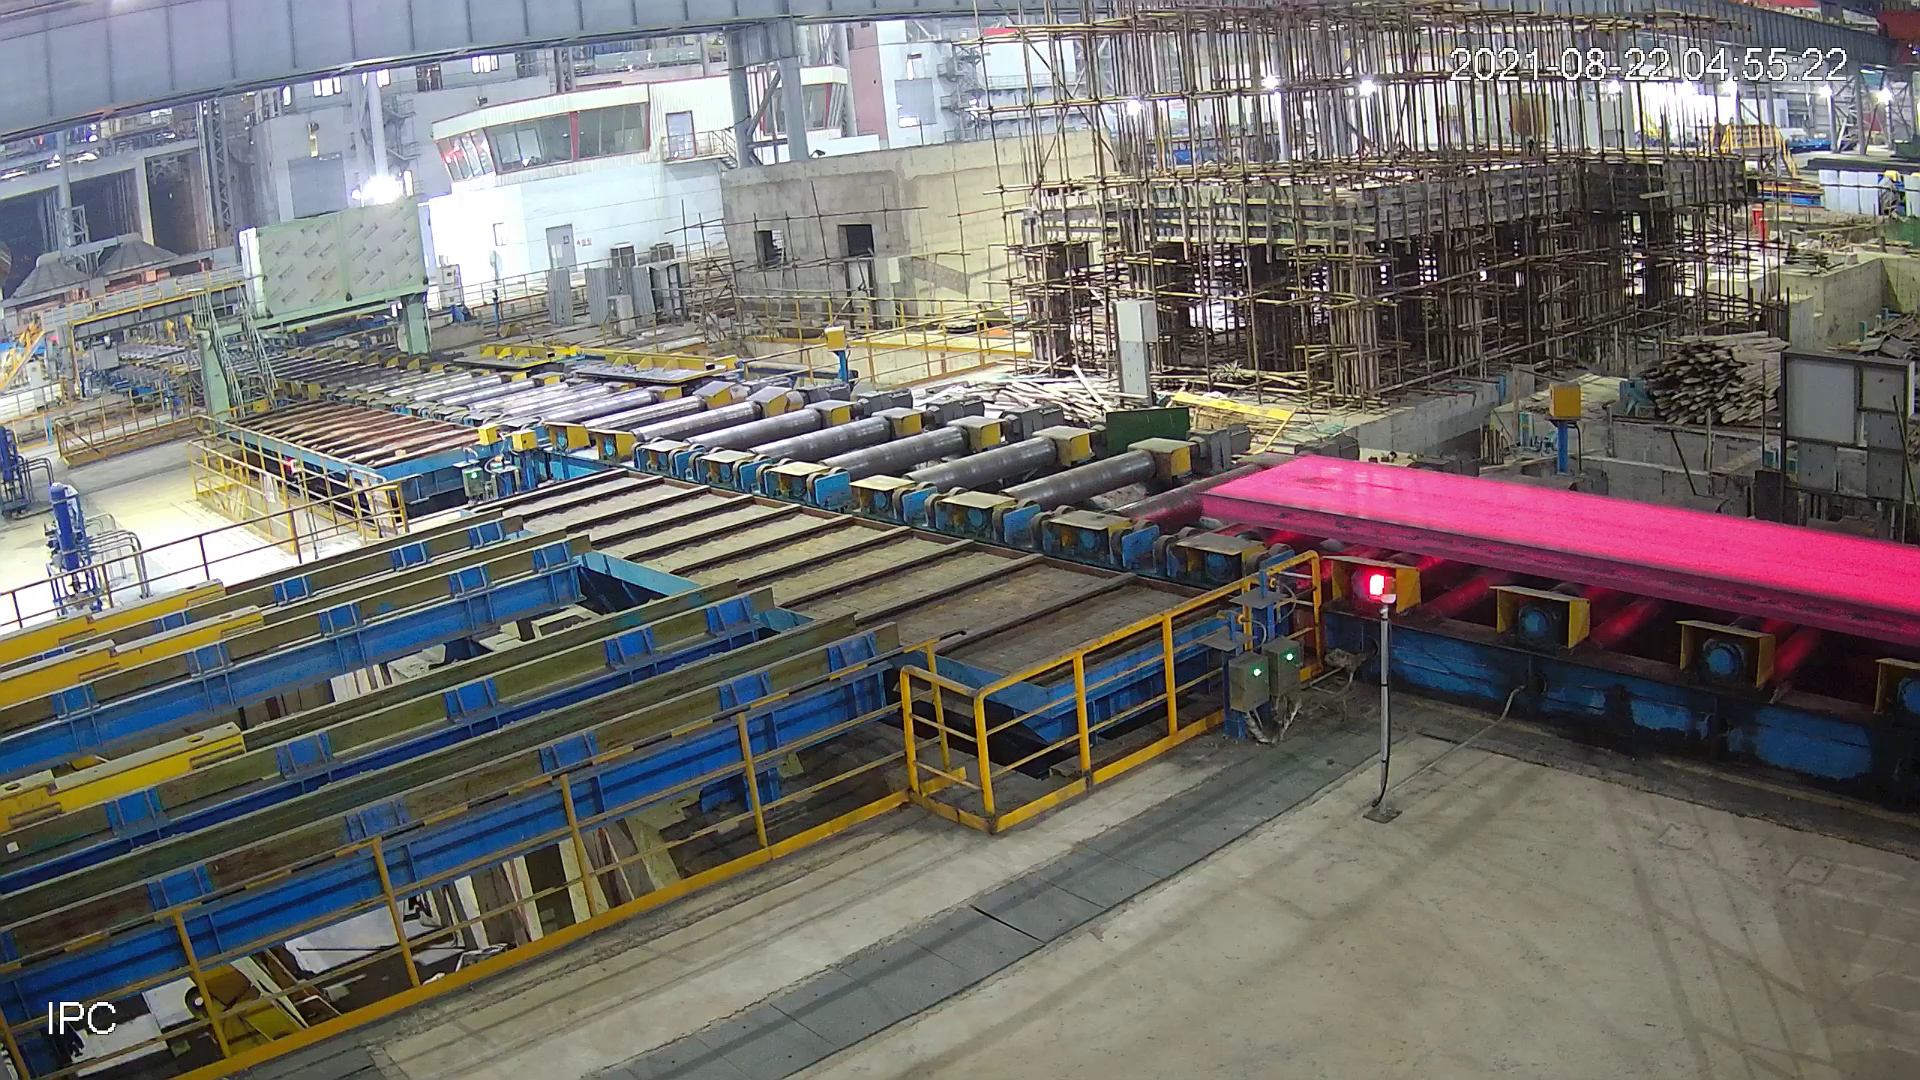slab: (1189, 443, 1920, 669)
